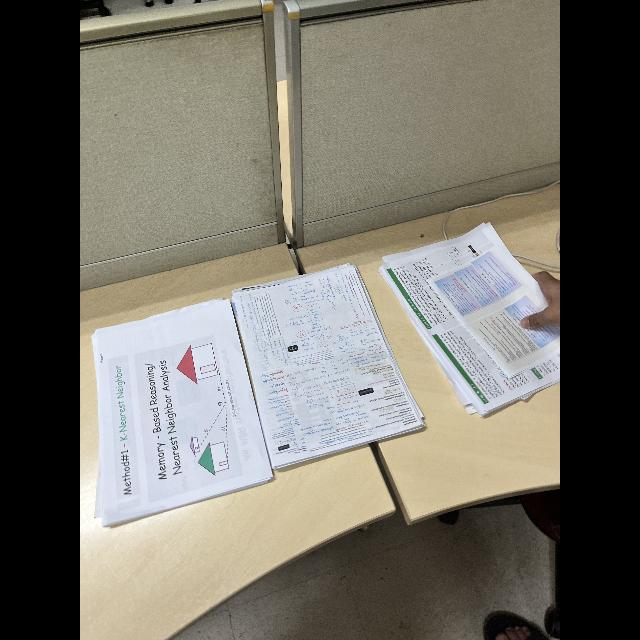reuseable_paper: (87, 253, 426, 533), (378, 216, 560, 430)
